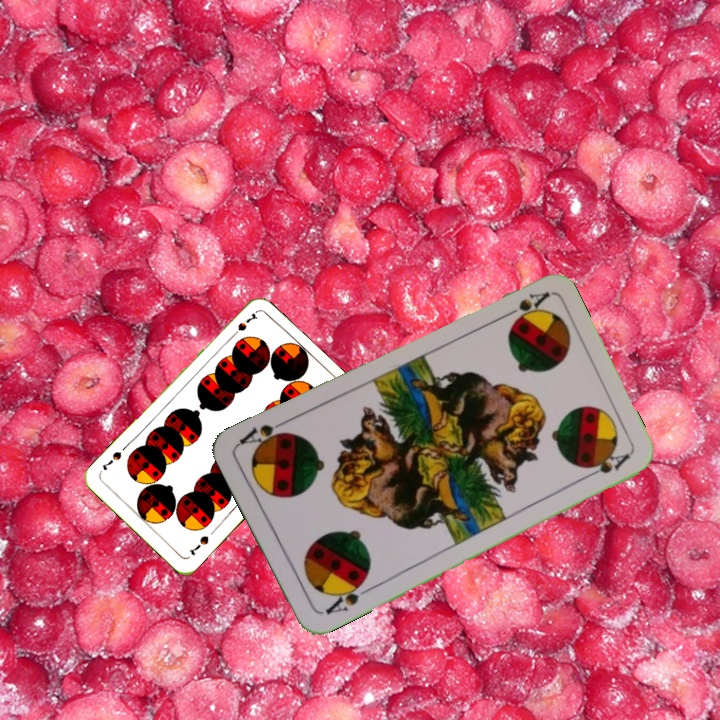S7: (226, 309, 260, 341), (185, 532, 211, 558)
SA: (321, 576, 373, 618), (496, 287, 551, 325)
